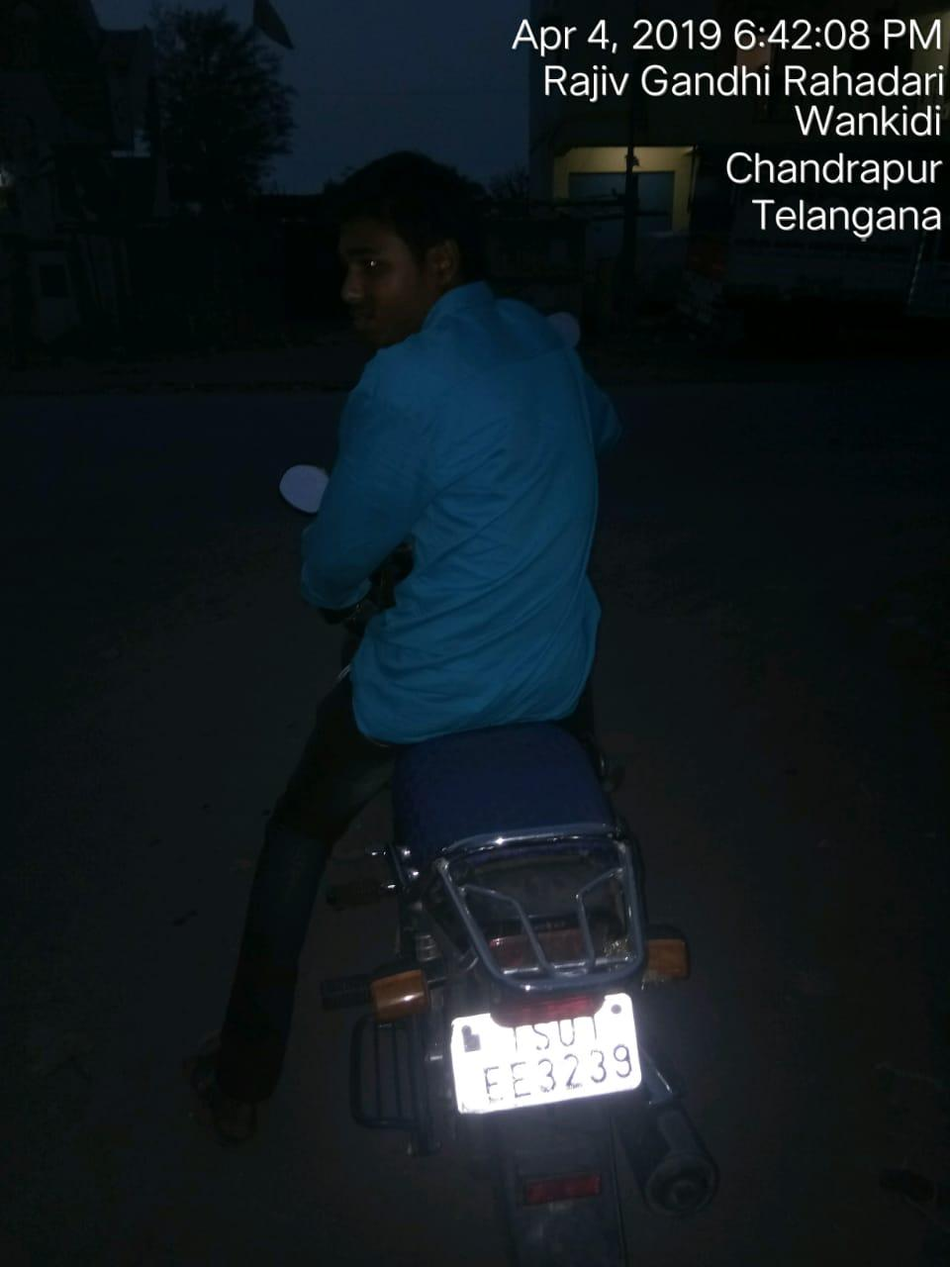plate: (441, 978, 649, 1130)
